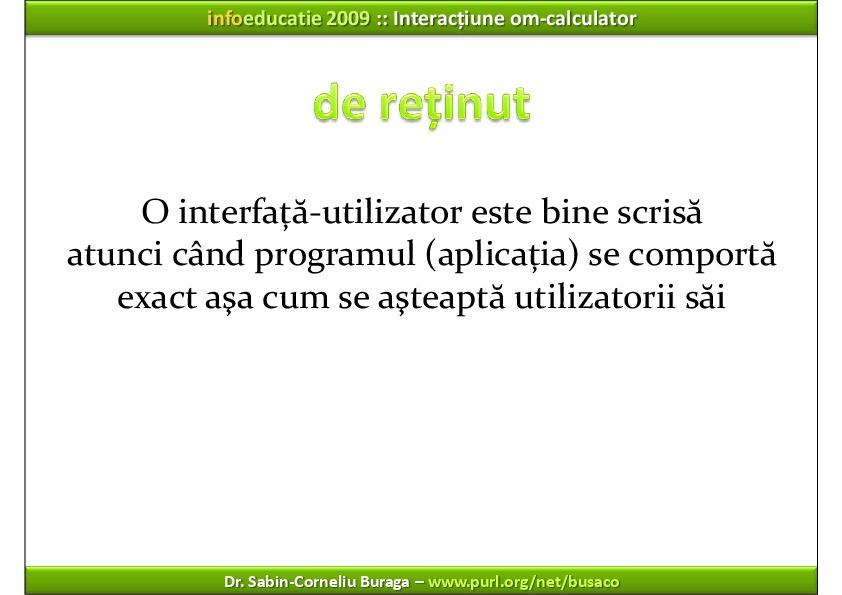subtitle: (53, 182, 801, 331), (306, 78, 547, 141)
title: (203, 2, 645, 38)
